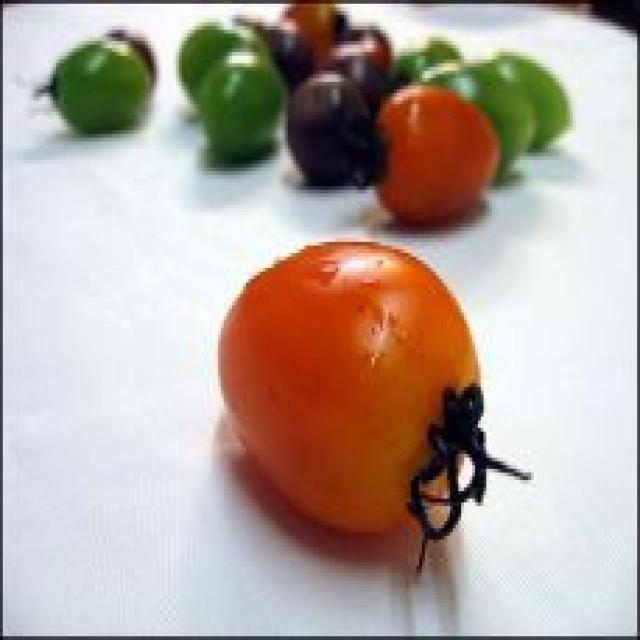level 1: (40, 30, 157, 146), (189, 52, 286, 169), (172, 15, 279, 119), (394, 27, 455, 95)
level 2: (418, 46, 544, 185), (495, 30, 589, 165)
level 5: (172, 228, 541, 569)
level 6: (356, 73, 512, 230)
